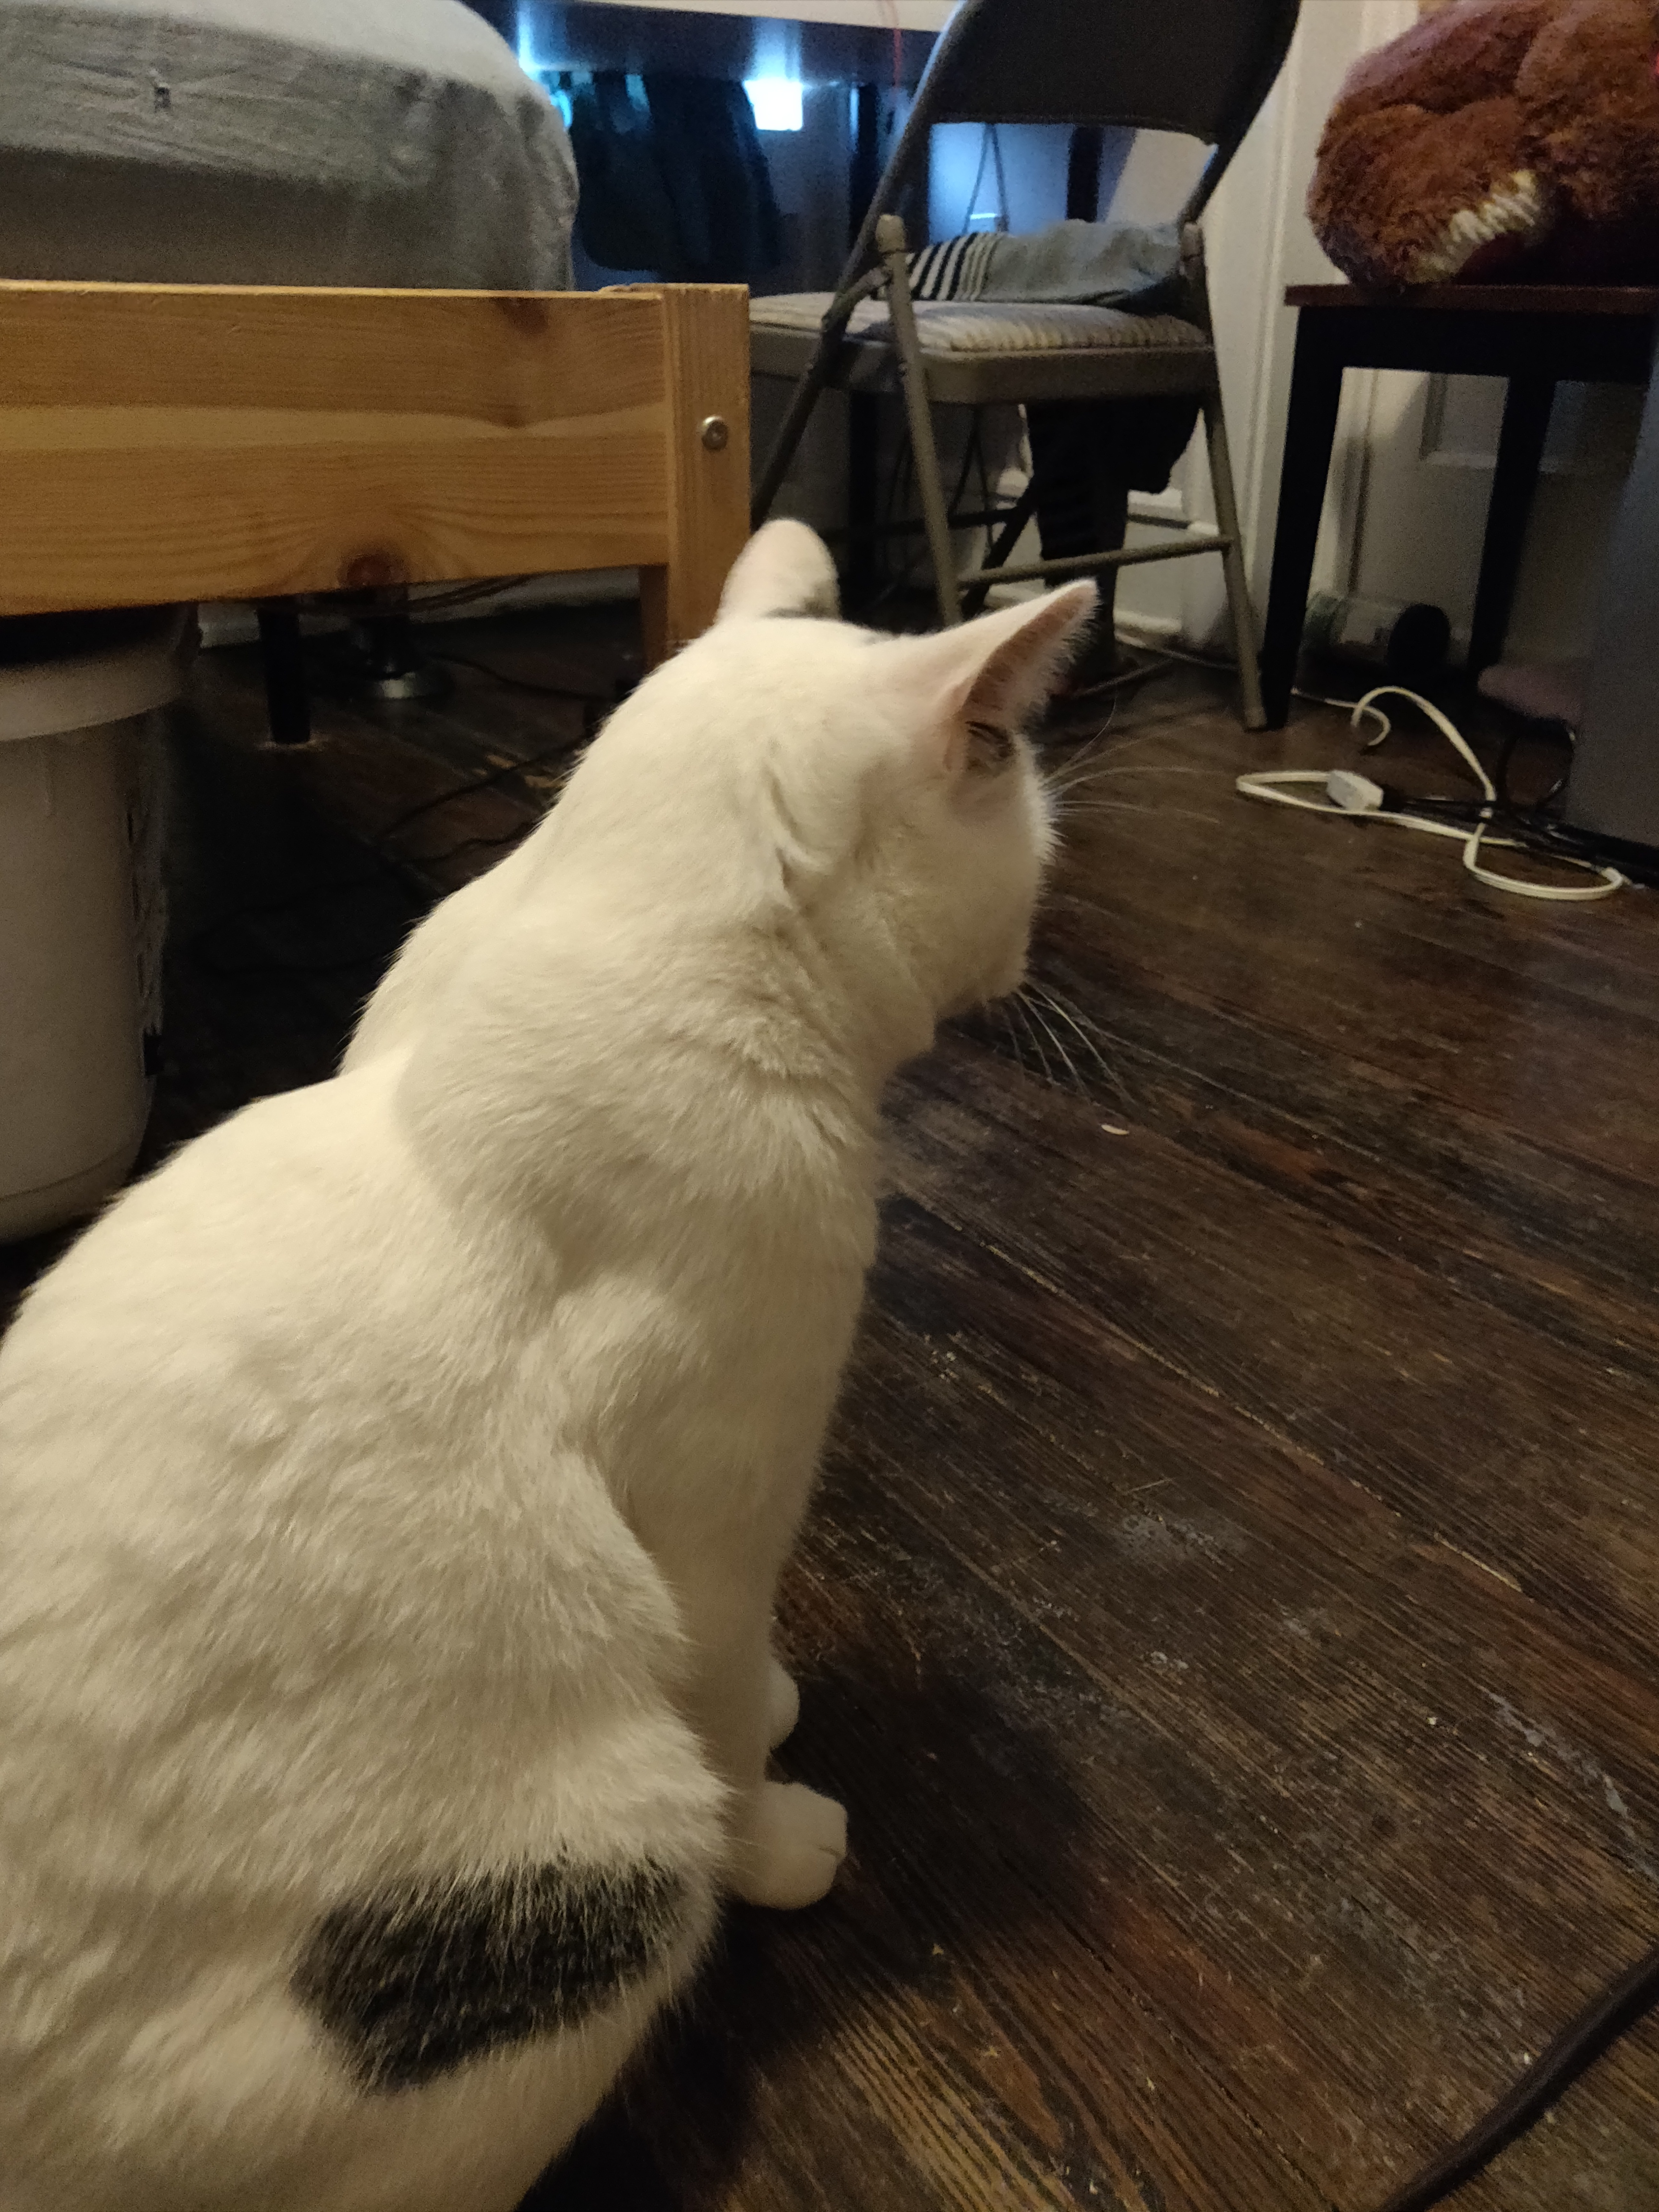cat: (2, 509, 1094, 2202)
